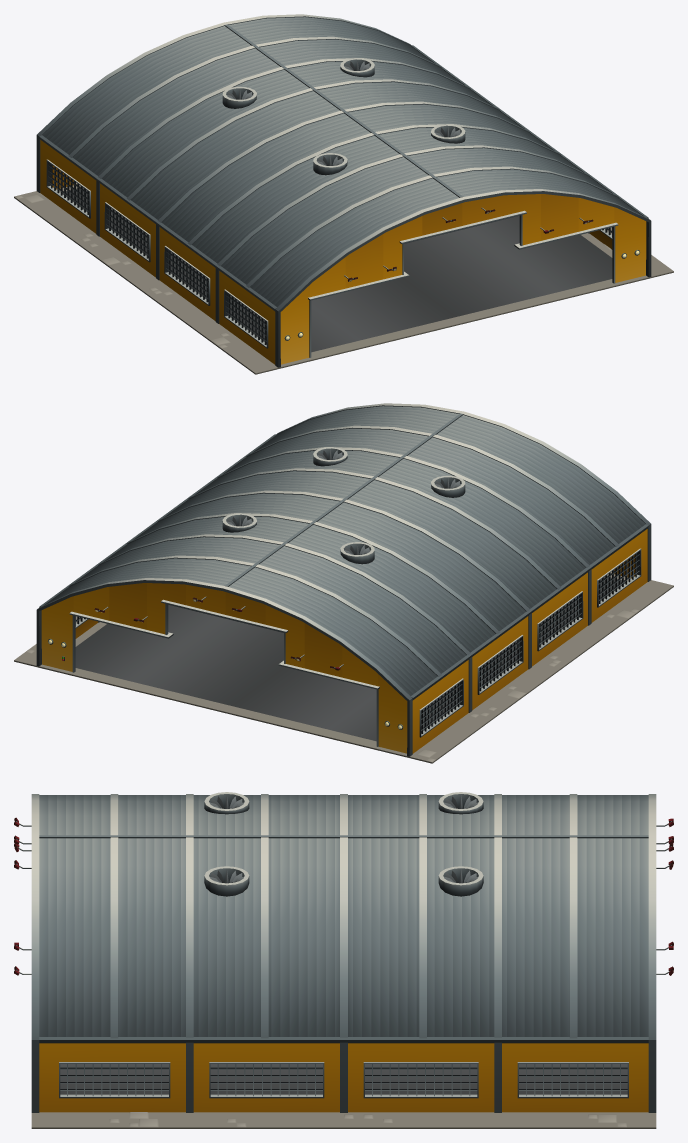
The model's file is tp_hangar_01a.glb.
3 views of the same model, one above another, from view 1: azimuth 30°, elevation 25°; view 2: azimuth 150°, elevation 25°; view 3: azimuth 270°, elevation 25° (orthographic). The views are drawn at different scales.
Parts seen in each view (by area): view 1: TP_Hangar_01A; view 2: TP_Hangar_01A; view 3: TP_Hangar_01A.
Boxes of the visible parts, left/top/right/bottom form: TP_Hangar_01A: left=14, top=14, right=673, bottom=374; TP_Hangar_01A: left=14, top=403, right=673, bottom=763; TP_Hangar_01A: left=14, top=792, right=673, bottom=1128.
Size of the model in its own units: 64 by 18.18 by 67.62.
1 material, 1 textured.
